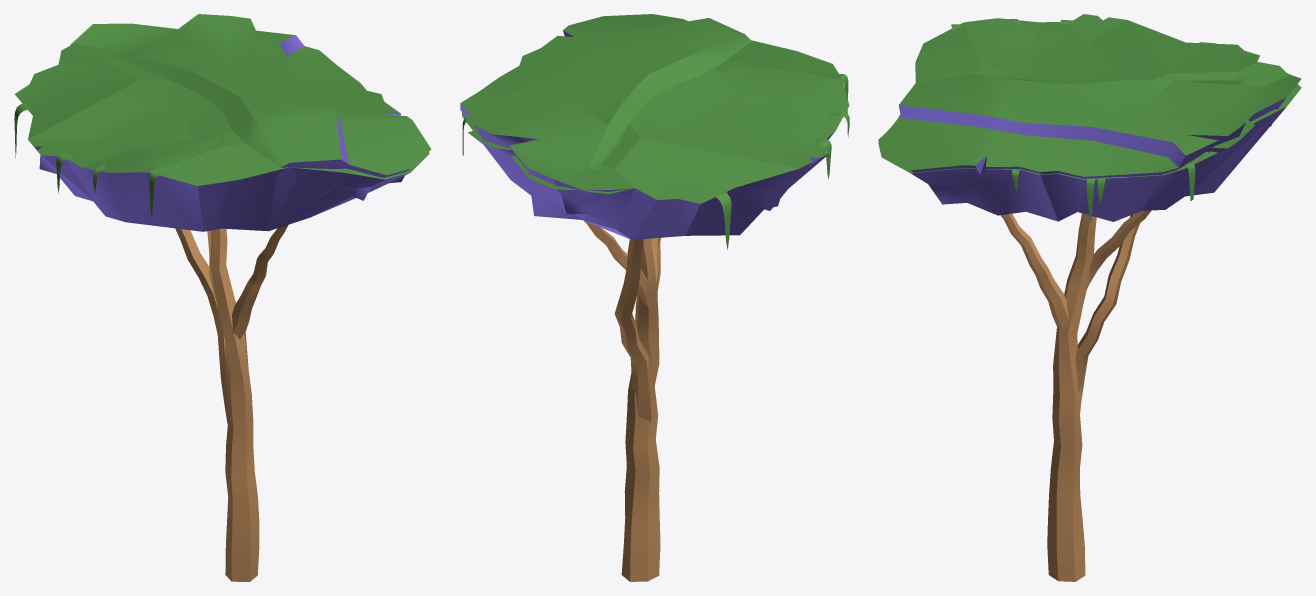
The model's file is tree_B_canopy_B_solo.fbx.
3 renders of one model, left to right at view 1: azimuth 30°, elevation 25°; view 2: azimuth 150°, elevation 25°; view 3: azimuth 270°, elevation 25°, orthographic. The views are drawn at different scales.
Parts seen in each view (by area): view 1: tree_B_canopy_B_leveled, tree_B_canopy_B, tree_B_canopy_B_trunks_A, tree_B_canopy_B_trunks_D, tree_B_canopy_B_trunks_B; view 2: tree_B_canopy_B_leveled, tree_B_canopy_B, tree_B_canopy_B_trunks_A, tree_B_canopy_B_trunks_D, tree_B_canopy_B_trunk_C; view 3: tree_B_canopy_B_leveled, tree_B_canopy_B, tree_B_canopy_B_trunks_A, tree_B_canopy_B_trunks_D, tree_B_canopy_B_trunks_B, tree_B_canopy_B_trunk_C.
Part boxes in pixels (x1,y1,x2,y2): tree_B_canopy_B_leveled: (16,14,431,231); tree_B_canopy_B: (15,42,429,230); tree_B_canopy_B_trunks_A: (210,228,259,581); tree_B_canopy_B_trunks_D: (175,228,228,425); tree_B_canopy_B_trunks_B: (232,225,288,339); tree_B_canopy_B_leveled: (460,14,848,236); tree_B_canopy_B: (462,40,849,239); tree_B_canopy_B_trunks_A: (621,238,660,581); tree_B_canopy_B_trunks_D: (614,239,651,423); tree_B_canopy_B_trunk_C: (584,221,652,308); tree_B_canopy_B_leveled: (878,14,1301,214); tree_B_canopy_B: (878,17,1301,221); tree_B_canopy_B_trunks_A: (1047,213,1096,581); tree_B_canopy_B_trunks_D: (1075,213,1139,395); tree_B_canopy_B_trunks_B: (1001,213,1068,329); tree_B_canopy_B_trunk_C: (1087,210,1151,288).
Bounding box in the file's own units: 387 × 553 × 433.
